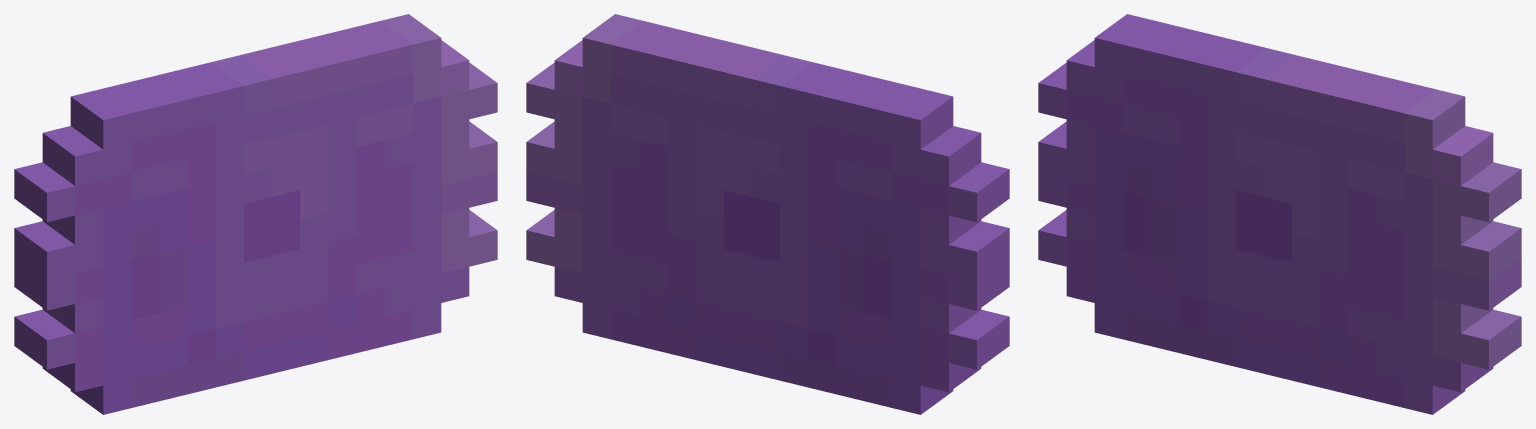
Rendered from tickets-purple.glb.
3 views of the same model, side by side, from view 1: azimuth 30°, elevation 25°; view 2: azimuth 150°, elevation 25°; view 3: azimuth 330°, elevation 25° (orthographic).
Parts seen in each view (by area): view 1: prop; view 2: prop; view 3: prop.
Part boxes in pixels (<box>): prop: <box>14,14,497,414</box>; prop: <box>526,14,1009,414</box>; prop: <box>1038,14,1521,414</box>.
Size of the model in its own units: 16 by 10 by 2.
